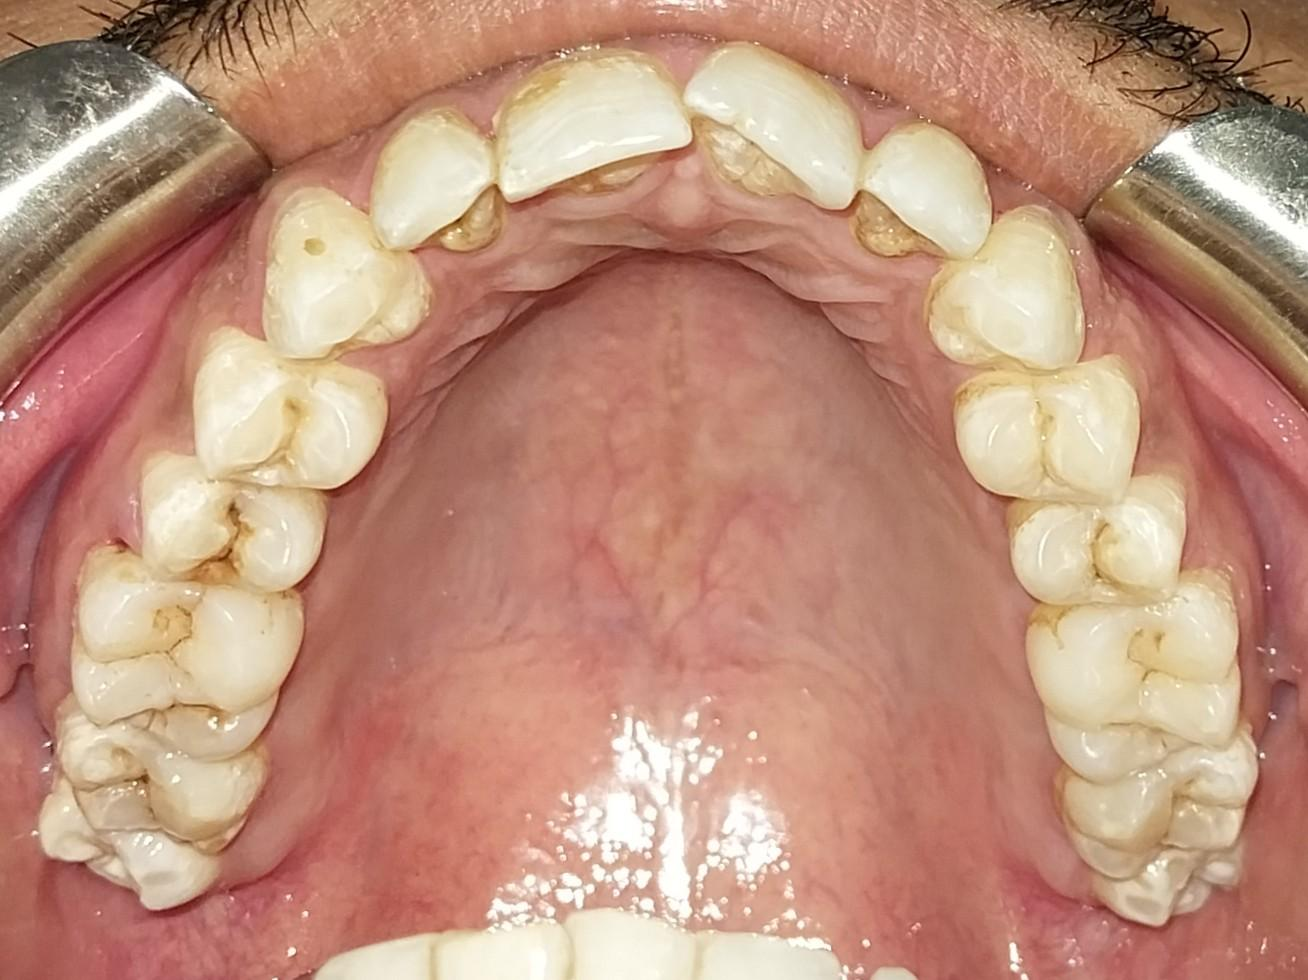D: (140, 450, 326, 590)
